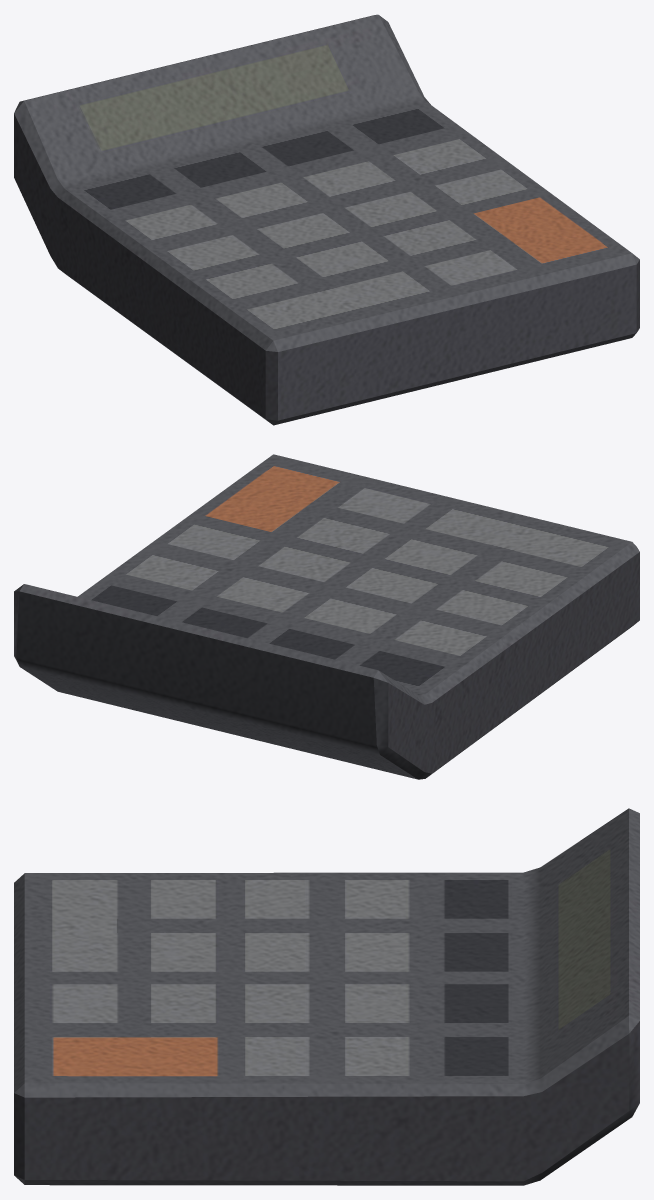
Rendered from calculator.fbx.
3 renders of one model, top to bottom at view 1: azimuth 30°, elevation 25°; view 2: azimuth 150°, elevation 25°; view 3: azimuth 270°, elevation 25°, orthographic. The views are drawn at different scales.
Parts seen in each view (by area): view 1: pCube33; view 2: pCube33; view 3: pCube33.
Boxes of the visible parts, box(x1,y1,x2,y2) form: pCube33: box(14, 14, 639, 425); pCube33: box(14, 454, 639, 779); pCube33: box(14, 808, 639, 1185).
Bounding box in the file's own units: 8.01 × 2.86 × 9.66.
Materials: 1 (1 with a texture image).
